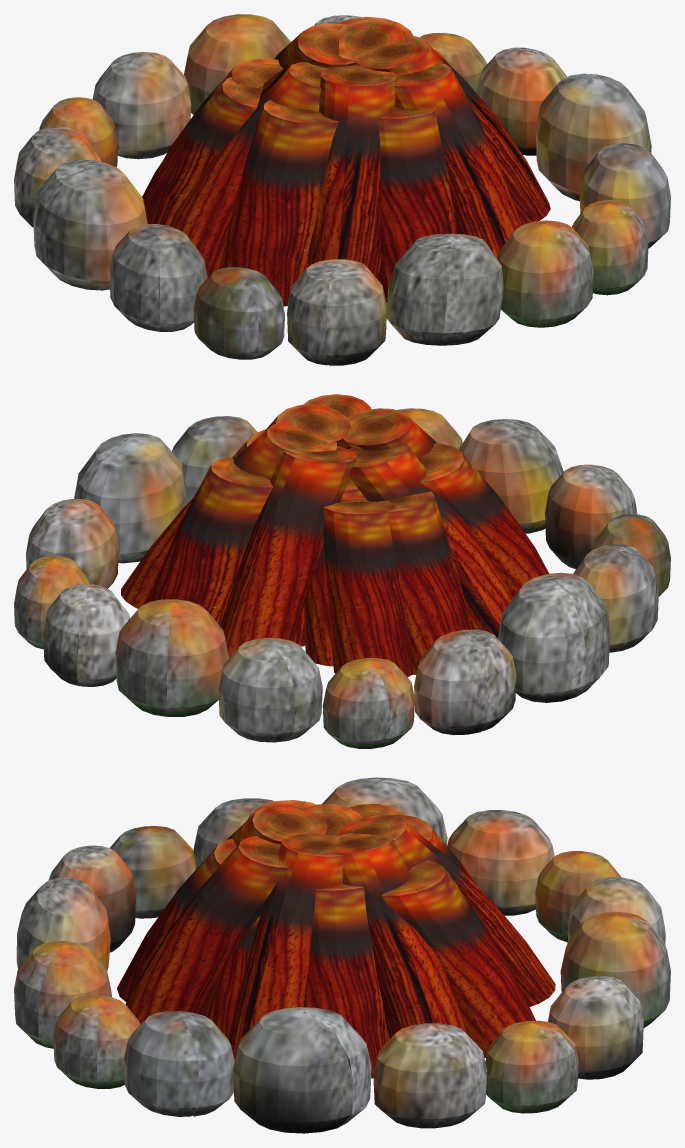
File: campfire.obj
3 renders of one model, top to bottom at view 1: azimuth 30°, elevation 25°; view 2: azimuth 150°, elevation 25°; view 3: azimuth 270°, elevation 25°, orthographic. The views are drawn at different scales.
Parts seen in each view (by area): view 1: Mesh; view 2: Mesh; view 3: Mesh.
Boxes of the visible parts, <box> form: Mesh: <box>14,14,670,365</box>; Mesh: <box>14,394,670,748</box>; Mesh: <box>14,777,670,1133</box>.
Size of the model in its own units: 3.29 by 1.03 by 3.31.
1 material, 1 textured.
